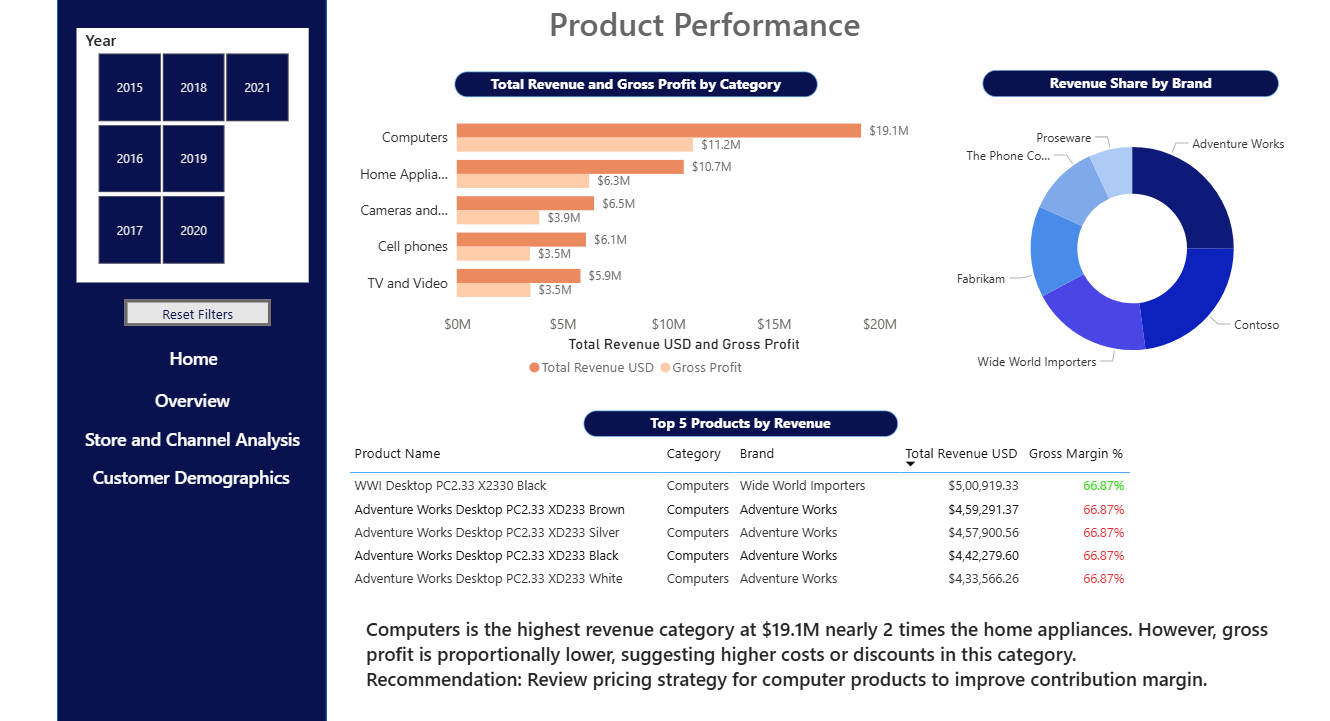

This screenshot's page, from the dashboard's own definition file:
{"tool":"powerbi","page":{"name":"Product Performance","canvas":[1280,720],"ordinal":3},"visuals":[{"type":"textbox","box":[415.1,0,449.7,63.6],"z":0},{"type":"clusteredBarChart","fields":{"Y":["Measure.Total Revenue USD","Measure.Gross Profit"],"Category":["Products.Category"]},"box":[281.1,99.5,584.2,287.4],"z":1000},{"type":"tableEx","title":"Top 10 Products by Revenue","fields":{"Values":["Products.Product Name","Products.Category","Products.Brand","Measure.Total Revenue USD","Measure.Gross Margin %"]},"box":[285.8,437.4,794.2,162.6],"z":2000},{"type":"slicer","fields":{"Values":["DateTable.Year"]},"box":[62.1,22.7,157.5,260.4],"z":3000},{"type":"textbox","box":[393.2,75.8,358.4,25.3],"z":4000},{"type":"textbox","box":[519.4,410.3,310.4,25.7],"z":5000},{"type":"textbox","box":[914.7,73.7,292.9,26.5],"z":6000},{"type":"donutChart","fields":{"Category":["Products.Brand"],"Y":["Measure.Total Revenue USD"]},"box":[882.5,100.2,357.2,298.6],"z":7000},{"type":"shape","box":[0,0,266.5,719.2],"z":8000},{"type":"actionButton","box":[12.6,462.6,238.4,26.8],"z":9000},{"type":"actionButton","box":[85.3,345.8,97.9,26.8],"z":10000},{"type":"actionButton","box":[18.9,424.7,229,26.8],"z":11000},{"type":"actionButton","box":[18.9,386.8,229,26.8],"z":12000},{"type":"textbox","box":[305.9,613.3,920.6,106],"z":13000},{"type":"actionButton","box":[67.2,301.1,144.7,26.3],"z":14000},{"type":"slicer","fields":{"Values":["DateTable.Year"]},"box":[19,32.2,229.5,251.4],"z":15000}]}

Visuals, with their boxes on the page's 1280x720 design canvas (x1, y1, x2, y2). These are canvas units, not pixel positions in the 1330x721 screenshot, which may show the page scaled, cropped or inside an application window:
textbox: l=415, t=0, r=865, b=64
clusteredBarChart - Measure.Total Revenue USD x Measure.Gross Profit: l=281, t=100, r=865, b=387
"Top 10 Products by Revenue" tableEx: l=286, t=437, r=1080, b=600
slicer - DateTable.Year: l=62, t=23, r=220, b=283
textbox: l=393, t=76, r=752, b=101
textbox: l=519, t=410, r=830, b=436
textbox: l=915, t=74, r=1208, b=100
donutChart - Products.Brand x Measure.Total Revenue USD: l=882, t=100, r=1240, b=399
shape: l=0, t=0, r=266, b=719
actionButton: l=13, t=463, r=251, b=489
actionButton: l=85, t=346, r=183, b=373
actionButton: l=19, t=425, r=248, b=452
actionButton: l=19, t=387, r=248, b=414
textbox: l=306, t=613, r=1226, b=719
actionButton: l=67, t=301, r=212, b=327
slicer - DateTable.Year: l=19, t=32, r=248, b=284
